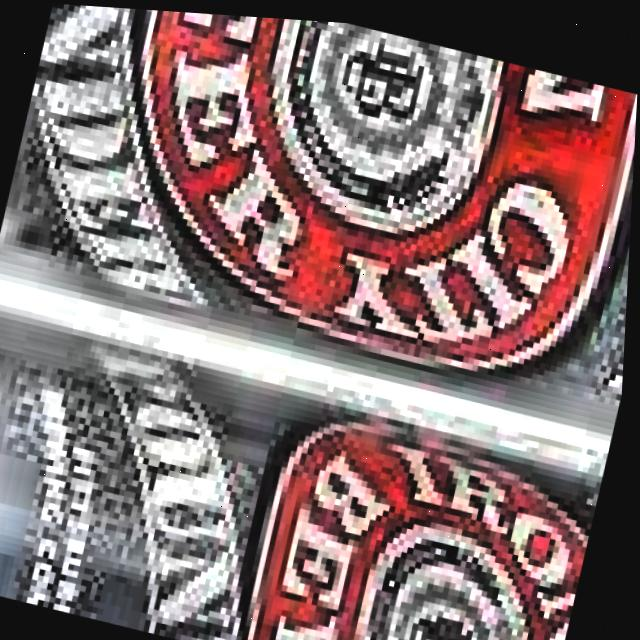metal: (0, 0, 640, 439), (0, 300, 617, 640)
